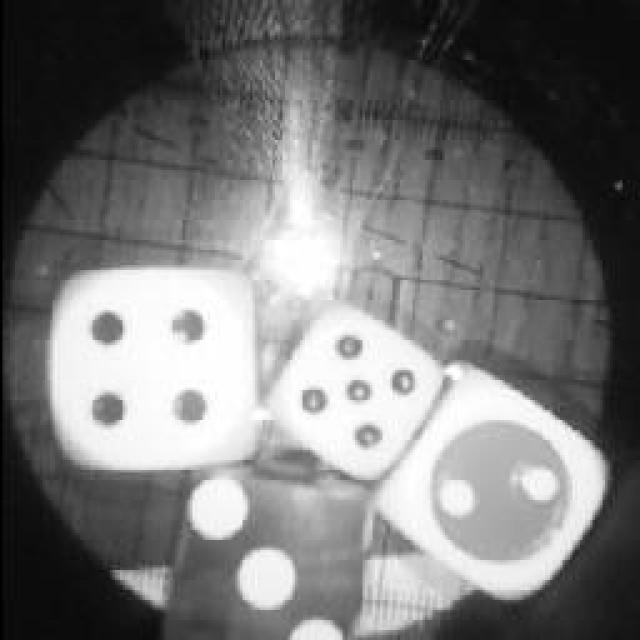dice_2: (373, 363, 615, 605), (262, 298, 448, 482)
dice_3: (152, 472, 380, 640)
dice_4: (38, 255, 268, 480)
